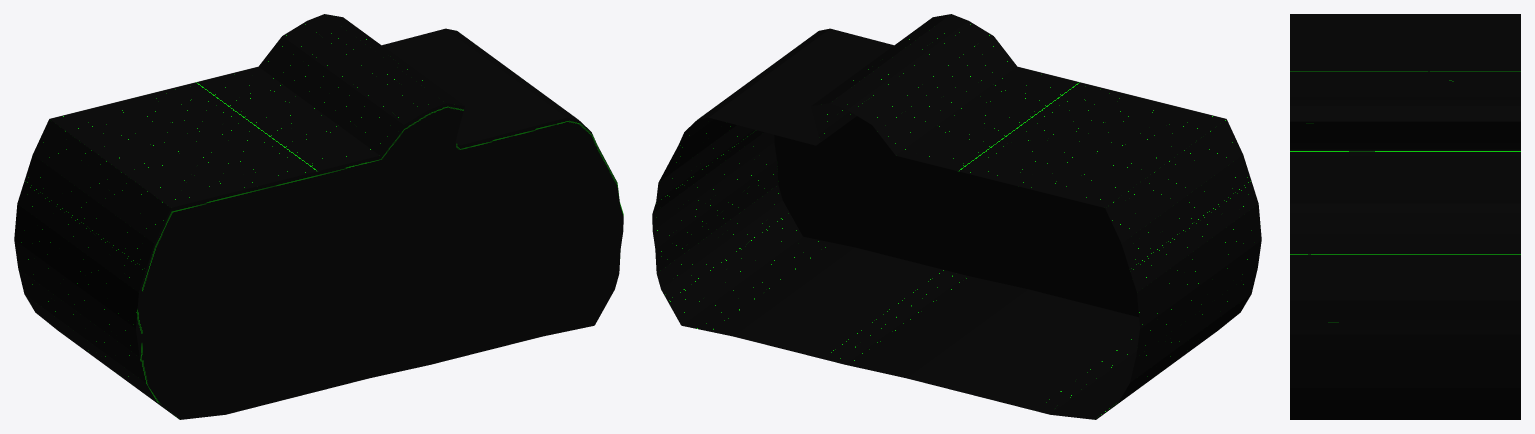
Rendered from Shadow_Maruta_03.FBX.
The picture shows the model from 3 angles, left to right: view 1: azimuth 30°, elevation 25°; view 2: azimuth 150°, elevation 25°; view 3: azimuth 270°, elevation 25°; orthographic projection. The views are drawn at different scales.
Parts seen in each view (by area): view 1: Line001; view 2: Line001; view 3: Line001.
Boxes of the visible parts, bbox=[...] form: Line001: bbox=[14, 14, 623, 419]; Line001: bbox=[652, 14, 1261, 419]; Line001: bbox=[1290, 14, 1520, 419].
Size of the model in its own units: 137 by 69.34 by 59.07.
1 material, 1 textured.
